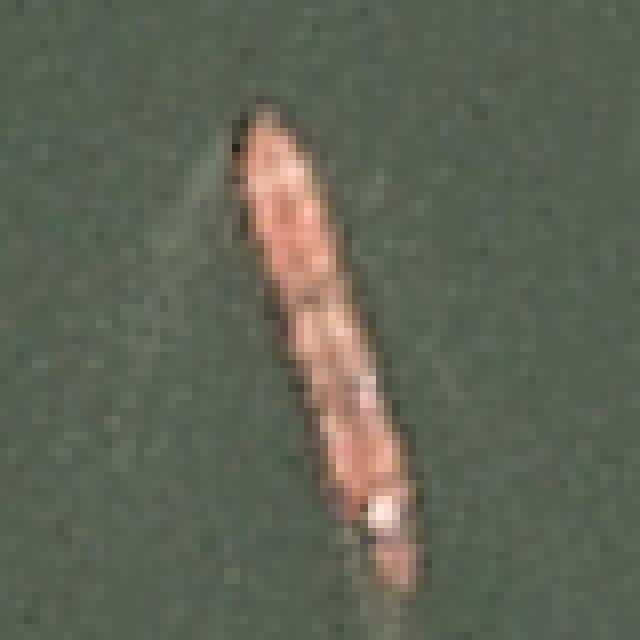ship: (206, 86, 484, 602)
